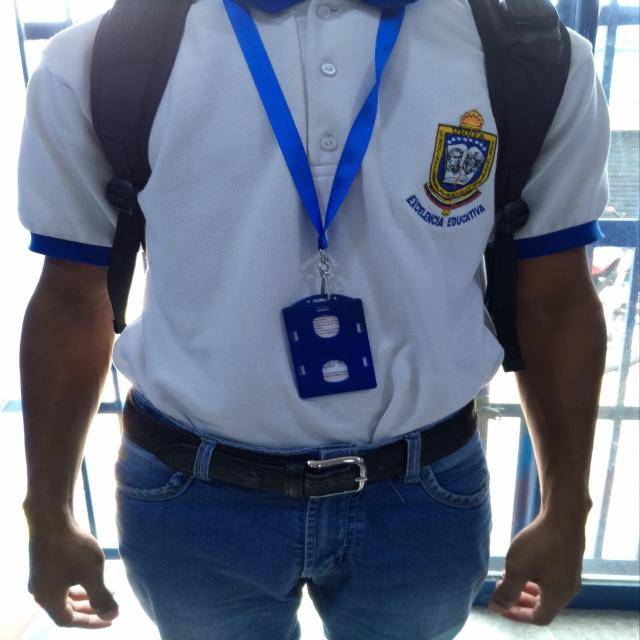carnet: (282, 298, 378, 400)
uniforme_superior: (21, 0, 609, 450)
